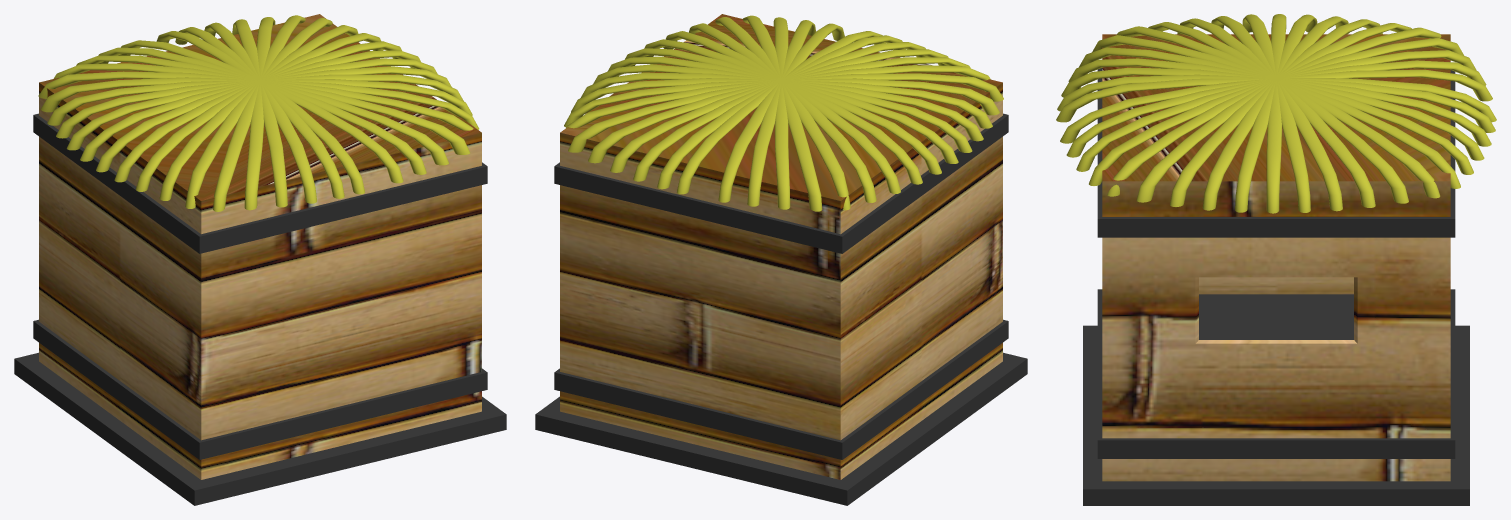
Rendered from Hut.obj.
The picture shows the model from 3 angles, left to right: view 1: azimuth 30°, elevation 25°; view 2: azimuth 150°, elevation 25°; view 3: azimuth 270°, elevation 25°; orthographic projection. The views are drawn at different scales.
Parts seen in each view (by area): view 1: Hut pCube2, pCube1 Hut, Hut pCube3, Hut pCube4, Hut polySurface9, Hut polySurface7, Hut polySurface8, Hut polySurface13, Hut polySurface14, Hut polySurface5, Hut polySurface10, Hut polySurface4 (+13 smaller); view 2: Hut pCube2, pCube1 Hut, Hut pCube3, Hut pCube4, Hut polySurface20, Hut polySurface21, Hut polySurface19, Hut polySurface18, Hut polySurface16, Hut polySurface17, Hut polySurface12, Hut polySurface15 (+13 smaller); view 3: Hut pCube2, Hut pCube3, pCube1 Hut, Hut pCube4, Hut polySurface6, Hut polySurface7, Hut polySurface3, Hut polySurface20, Hut polySurface1, Hut polySurface4, Hut polySurface5, Hut polySurface21 (+13 smaller).
Boxes of the visible parts, left/top/right/bottom form: Hut pCube2: left=39, top=14, right=481, bottom=479; pCube1 Hut: left=14, top=352, right=506, bottom=505; Hut pCube3: left=33, top=319, right=487, bottom=459; Hut pCube4: left=33, top=113, right=487, bottom=253; Hut polySurface9: left=41, top=77, right=479, bottom=129; Hut polySurface7: left=53, top=63, right=470, bottom=154; Hut polySurface8: left=38, top=71, right=473, bottom=130; Hut polySurface13: left=47, top=79, right=472, bottom=125; Hut polySurface14: left=56, top=74, right=463, bottom=138; Hut polySurface5: left=76, top=55, right=448, bottom=165; Hut polySurface10: left=66, top=66, right=451, bottom=150; Hut polySurface4: left=98, top=47, right=426, bottom=174; Hut pCube2: left=560, top=14, right=1002, bottom=479; pCube1 Hut: left=535, top=352, right=1027, bottom=505; Hut pCube3: left=554, top=319, right=1008, bottom=459; Hut pCube4: left=554, top=113, right=1008, bottom=253; Hut polySurface20: left=568, top=65, right=990, bottom=152; Hut polySurface21: left=566, top=73, right=1003, bottom=128; Hut polySurface19: left=564, top=78, right=999, bottom=127; Hut polySurface18: left=571, top=78, right=992, bottom=128; Hut polySurface16: left=588, top=57, right=970, bottom=163; Hut polySurface17: left=581, top=72, right=983, bottom=141; Hut polySurface12: left=593, top=64, right=972, bottom=152; Hut polySurface15: left=610, top=49, right=948, bottom=172; Hut pCube2: left=1102, top=34, right=1450, bottom=481; Hut pCube3: left=1097, top=289, right=1455, bottom=458; pCube1 Hut: left=1083, top=325, right=1469, bottom=505; Hut pCube4: left=1097, top=68, right=1455, bottom=237; Hut polySurface6: left=1060, top=69, right=1492, bottom=143; Hut polySurface7: left=1089, top=38, right=1463, bottom=185; Hut polySurface3: left=1056, top=78, right=1496, bottom=122; Hut polySurface20: left=1092, top=35, right=1460, bottom=188; Hut polySurface1: left=1061, top=67, right=1491, bottom=146; Hut polySurface4: left=1066, top=60, right=1486, bottom=157; Hut polySurface5: left=1076, top=50, right=1476, bottom=171; Hut polySurface21: left=1117, top=26, right=1440, bottom=198.
Size of the model in its own units: 24.12 by 20.86 by 24.12.
